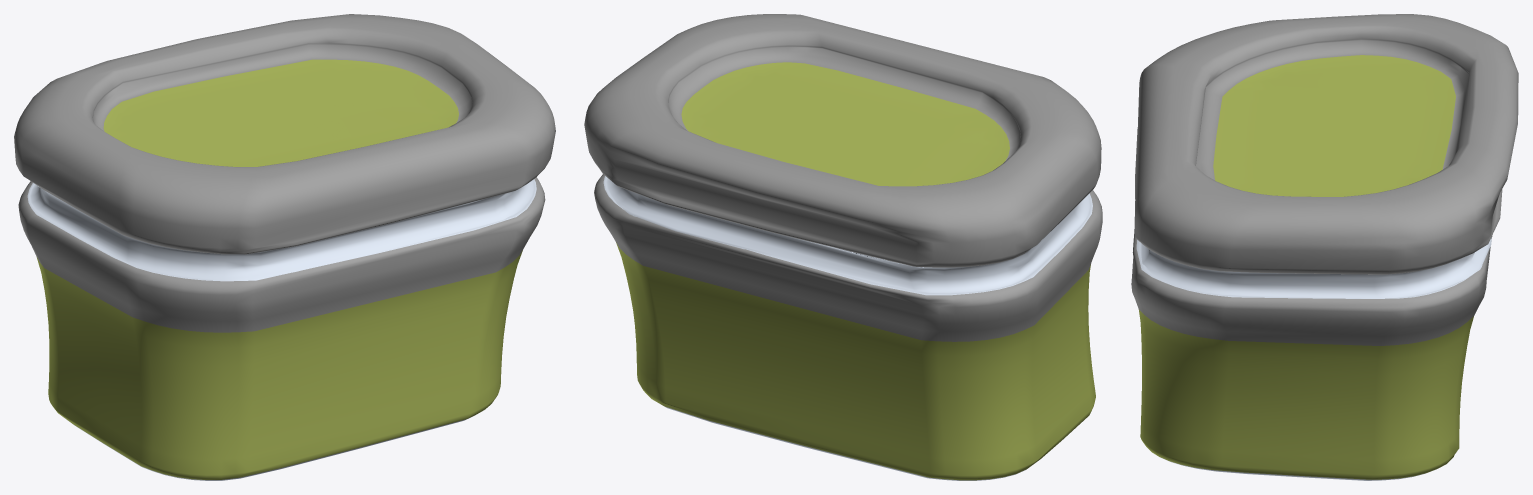
File: SM_Building_03_Version_03_Part_04.fbx
3 renders of one model, left to right at view 1: azimuth 30°, elevation 25°; view 2: azimuth 150°, elevation 25°; view 3: azimuth 270°, elevation 25°, orthographic. The views are drawn at different scales.
Parts seen in each view (by area): view 1: SM_Building_03_Version_03_Part_04; view 2: SM_Building_03_Version_03_Part_04; view 3: SM_Building_03_Version_03_Part_04.
Boxes of the visible parts, box(x1,y1,x2,y2) form: SM_Building_03_Version_03_Part_04: box(14, 14, 555, 480); SM_Building_03_Version_03_Part_04: box(584, 14, 1102, 480); SM_Building_03_Version_03_Part_04: box(1131, 14, 1518, 480).
Size of the model in its own units: 5202 by 3285 by 3823.
